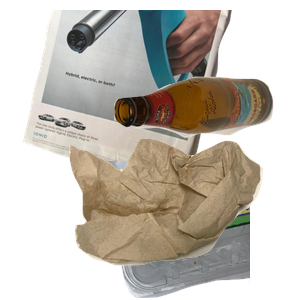glass: (111, 74, 300, 204)
paper: (20, 10, 244, 190)
plastic: (23, 161, 263, 300)
trash: (67, 136, 300, 300)
